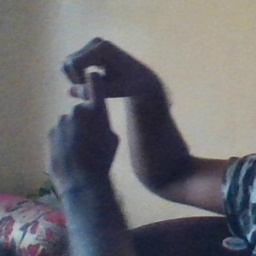Q: (43, 35, 142, 177)
